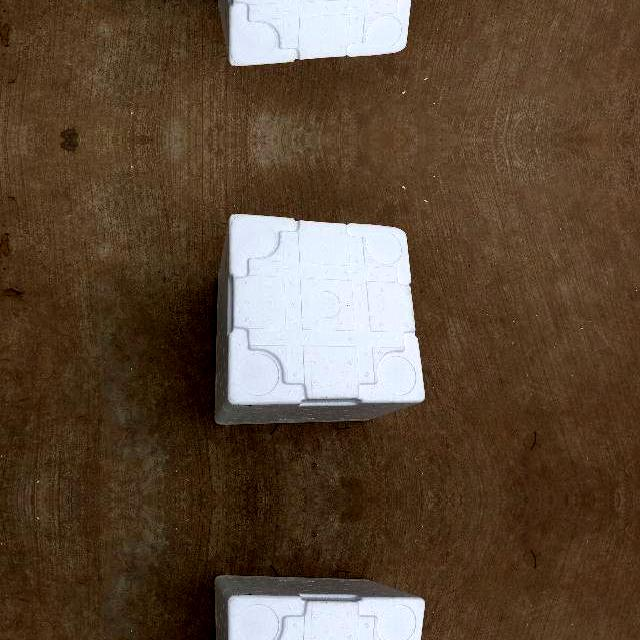Styrofoam: (212, 212, 428, 426), (215, 214, 425, 424), (212, 0, 427, 68), (212, 574, 427, 640), (215, 576, 425, 640), (218, 0, 411, 66)
